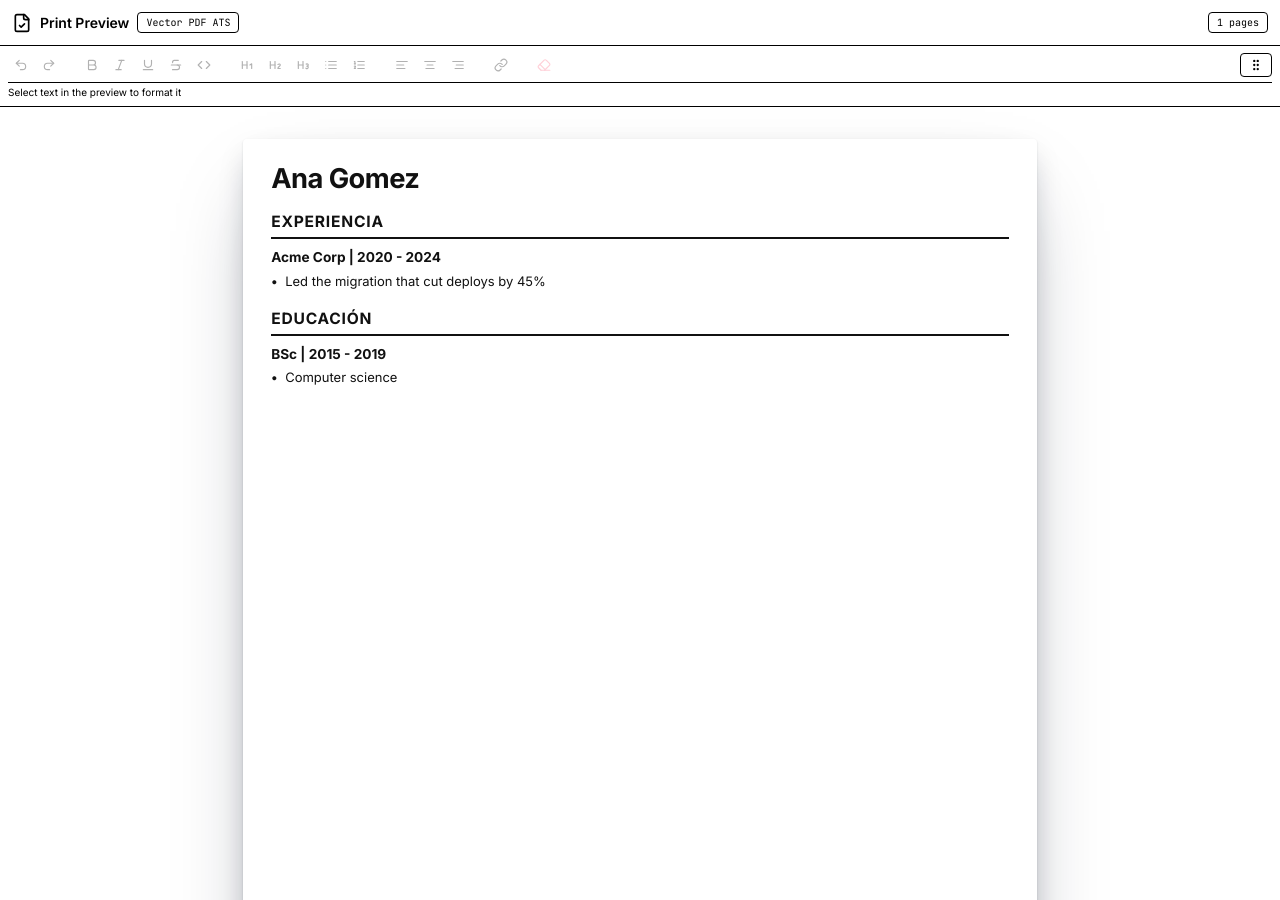
Scenario: CVPreview reordering sections › makes every section title a handle when the mode is on
Click the button named "reorder sections" at x=1256, y=65, box [1240,53,1272,77]
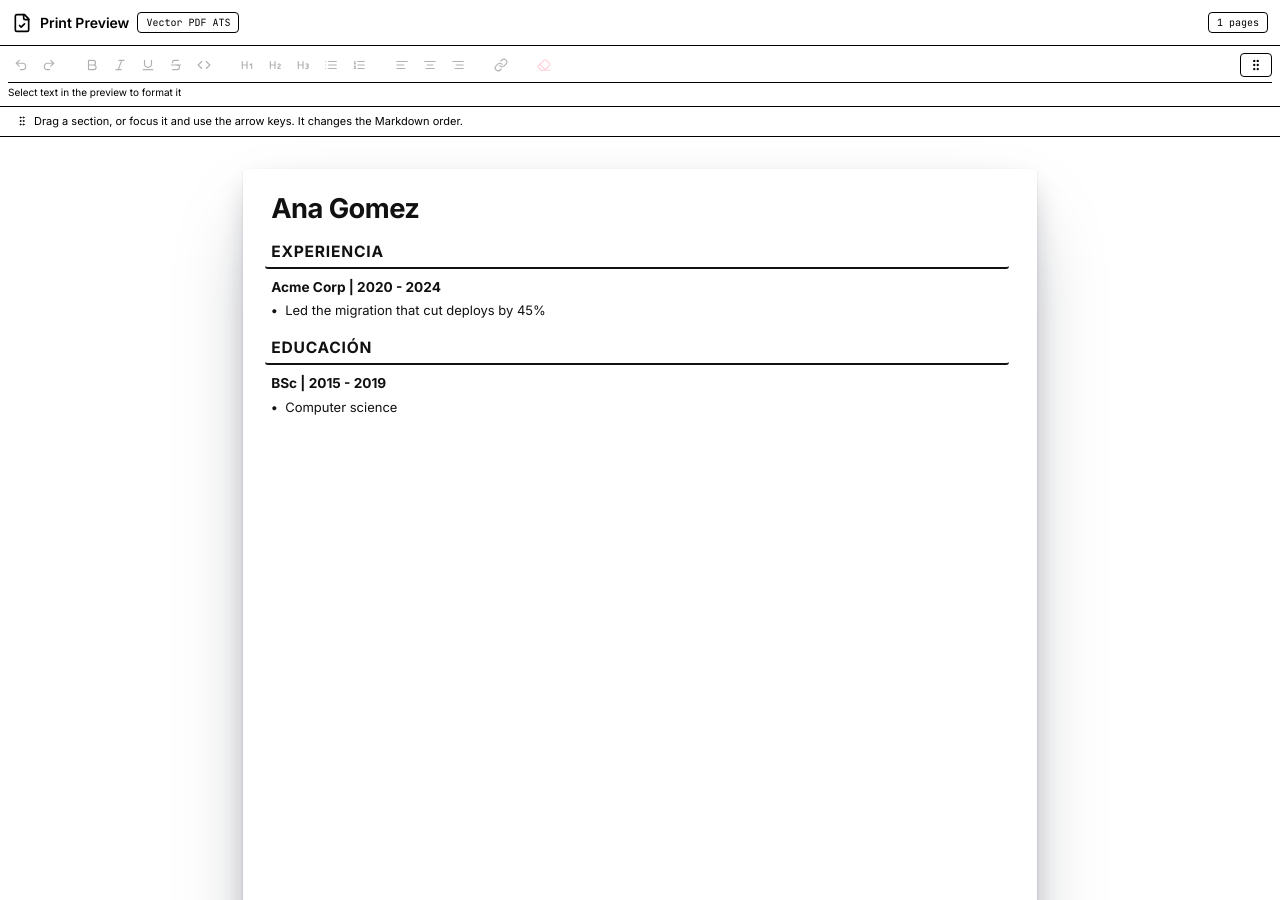
Check: the text "Drag a section" is shown, box [34,114,463,128]
